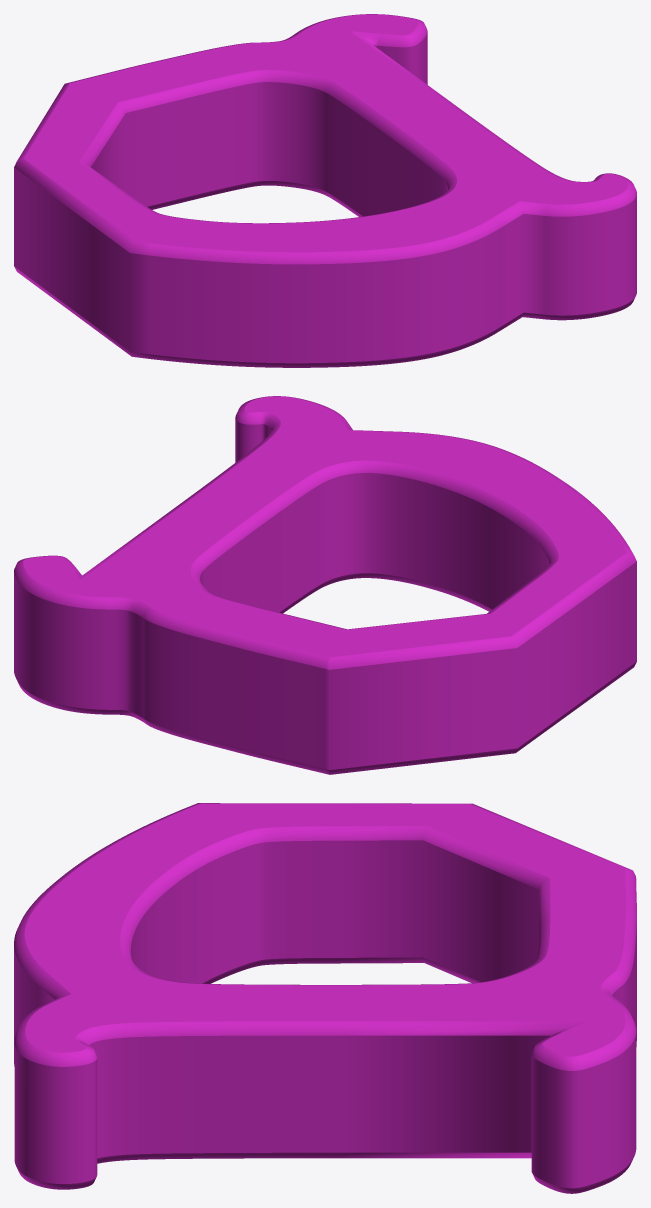
The model's file is Letter_D.fbx.
The picture shows the model from 3 angles, top to bottom: view 1: azimuth 30°, elevation 25°; view 2: azimuth 150°, elevation 25°; view 3: azimuth 270°, elevation 25°; orthographic projection. The views are drawn at different scales.
Parts seen in each view (by area): view 1: Letter_D; view 2: Letter_D; view 3: Letter_D.
Part boxes in pixels (x1,y1,x2,y2): Letter_D: [14, 14, 636, 367]; Letter_D: [14, 396, 636, 774]; Letter_D: [14, 803, 636, 1193].
Size of the model in its own units: 0.576 by 0.14 by 0.578.
